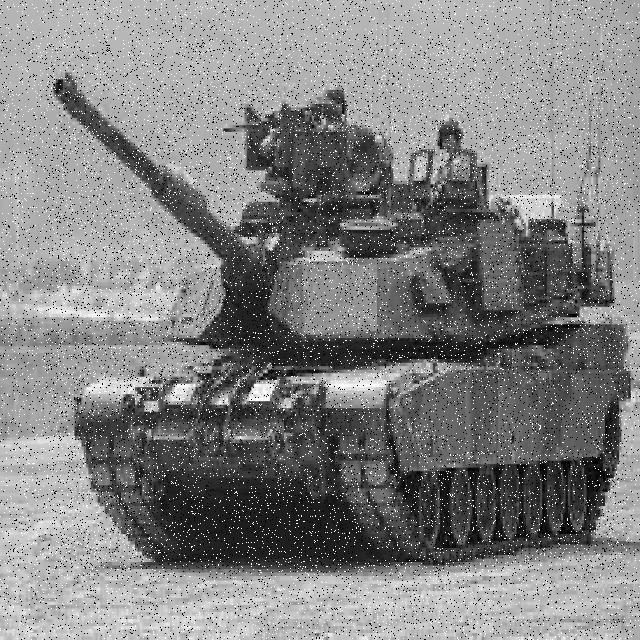MIL_MBT: (45, 44, 626, 578)
